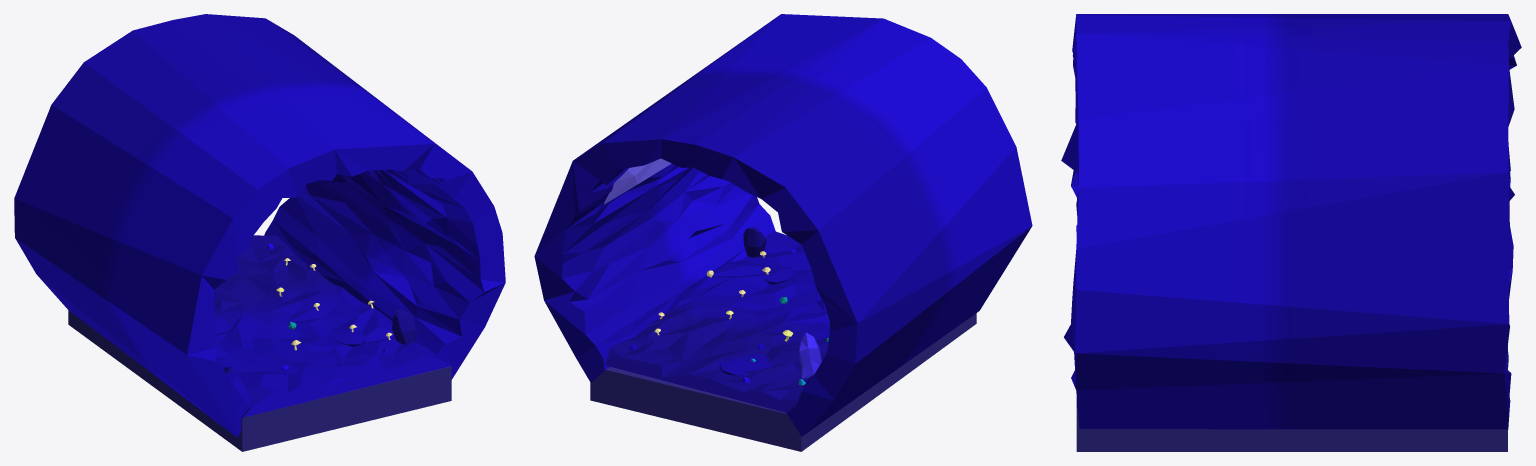
File: MAP_ver5_ All Plus Final.fbx
The picture shows the model from 3 angles, left to right: view 1: azimuth 30°, elevation 25°; view 2: azimuth 150°, elevation 25°; view 3: azimuth 270°, elevation 25°; orthographic projection. The views are drawn at different scales.
Visible parts, largest first — view 1: Cube.015; view 2: Cube.015; view 3: Cube.015.
Part boxes in pixels (x1,y1,x2,y2): Cube.015: [14, 14, 505, 451]; Cube.015: [534, 14, 1032, 451]; Cube.015: [1061, 14, 1521, 451].
Size of the model in its own units: 2737 by 2358 by 2754.
